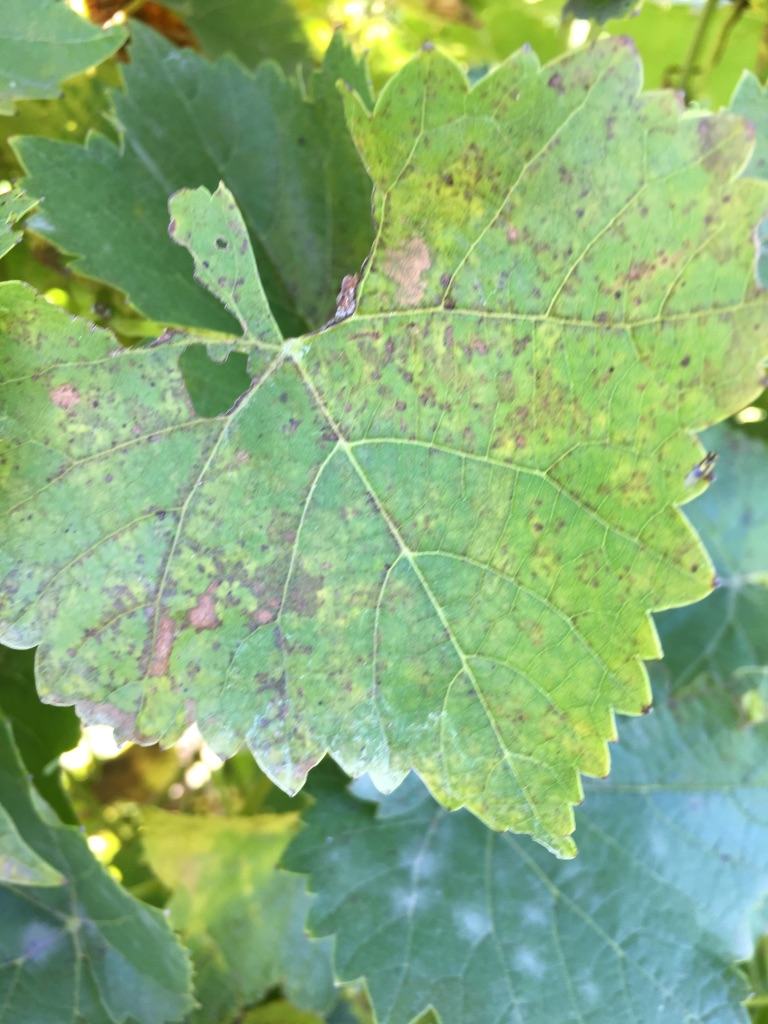downy: (337, 88, 768, 416), (37, 335, 330, 718), (336, 445, 587, 828)
